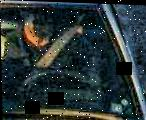seatbelt: (42, 19, 84, 65)
